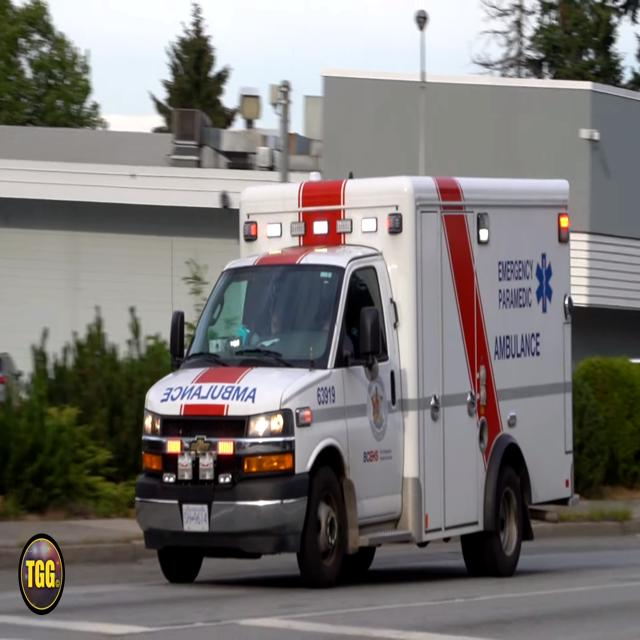emergency-vehicles: (123, 170, 590, 590)
